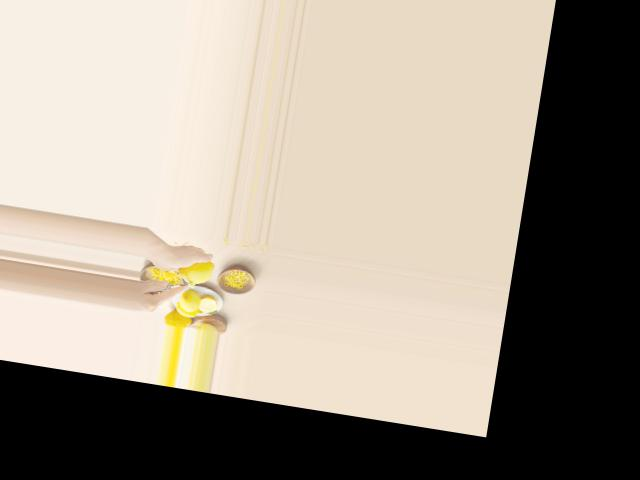lemon: (175, 251, 214, 288)
